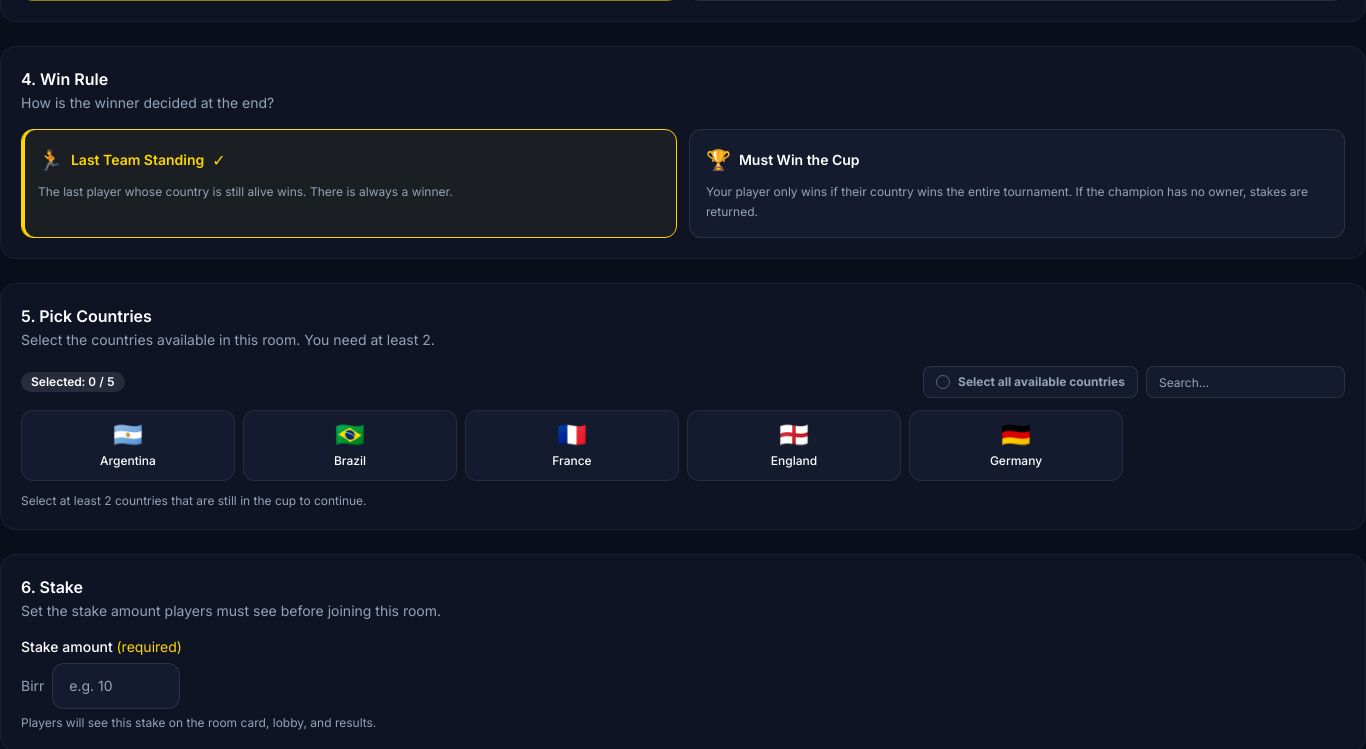
CreateRoomForm › selects and clears all available countries from the bulk selector
(page scrolled)
What coordinates should you click on to do the following:
click the checkbox with test id "select-all-countries"
I would click on:
 (1031, 382)
Its box is [923,366,1138,398].
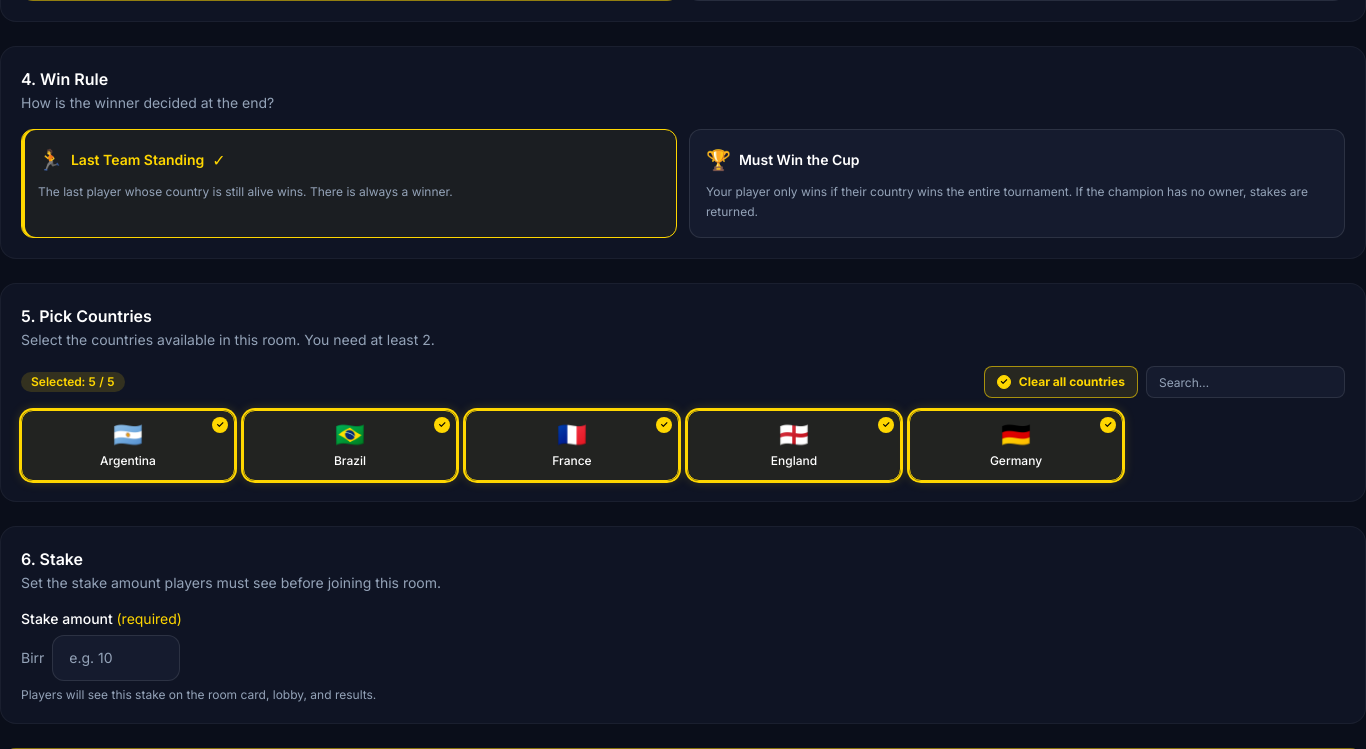
Expected: the text "Selected: 5 / 5" is shown, [21,372,125,392]
What coordinates should you click on to do the following:
click the checkbox with test id "select-all-countries"
I would click on:
 (1061, 382)
Its box is [984,366,1138,398].
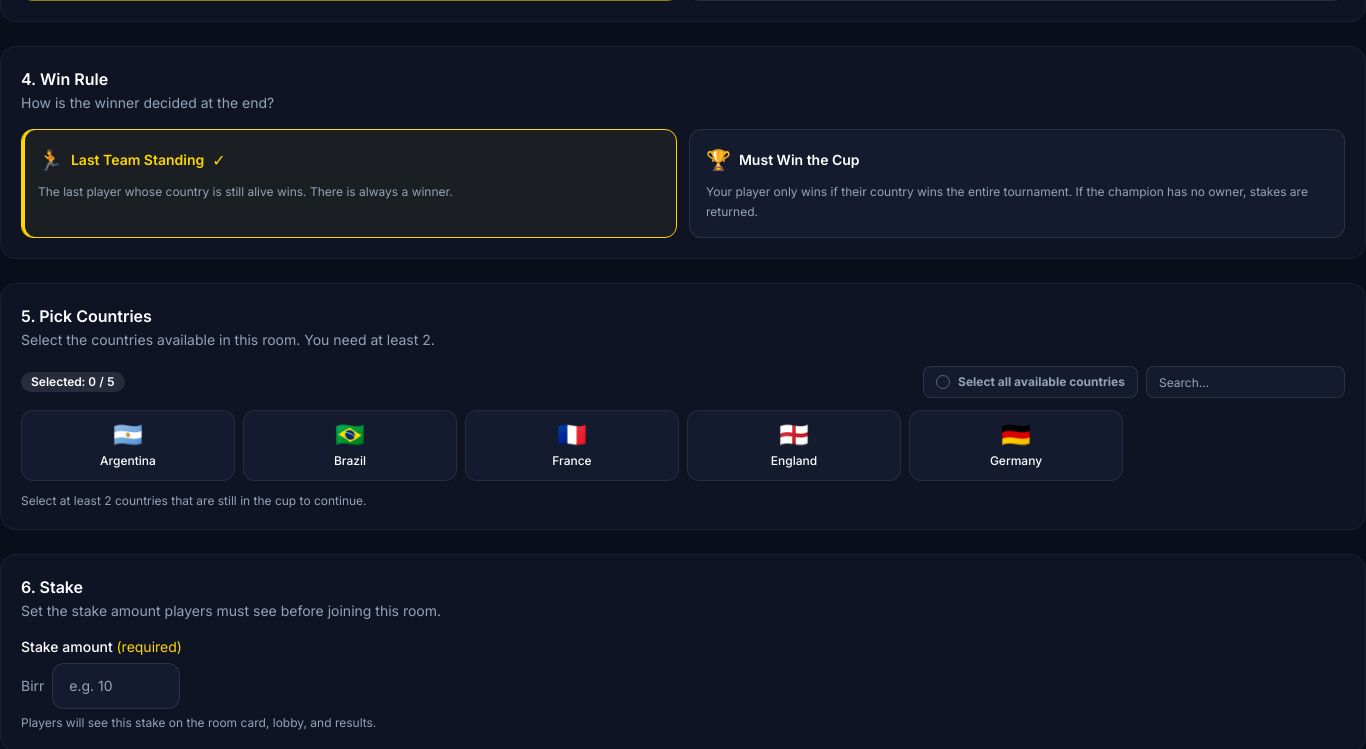
Expected: the text "Selected: 0 / 5" is shown, [21,372,125,392]
